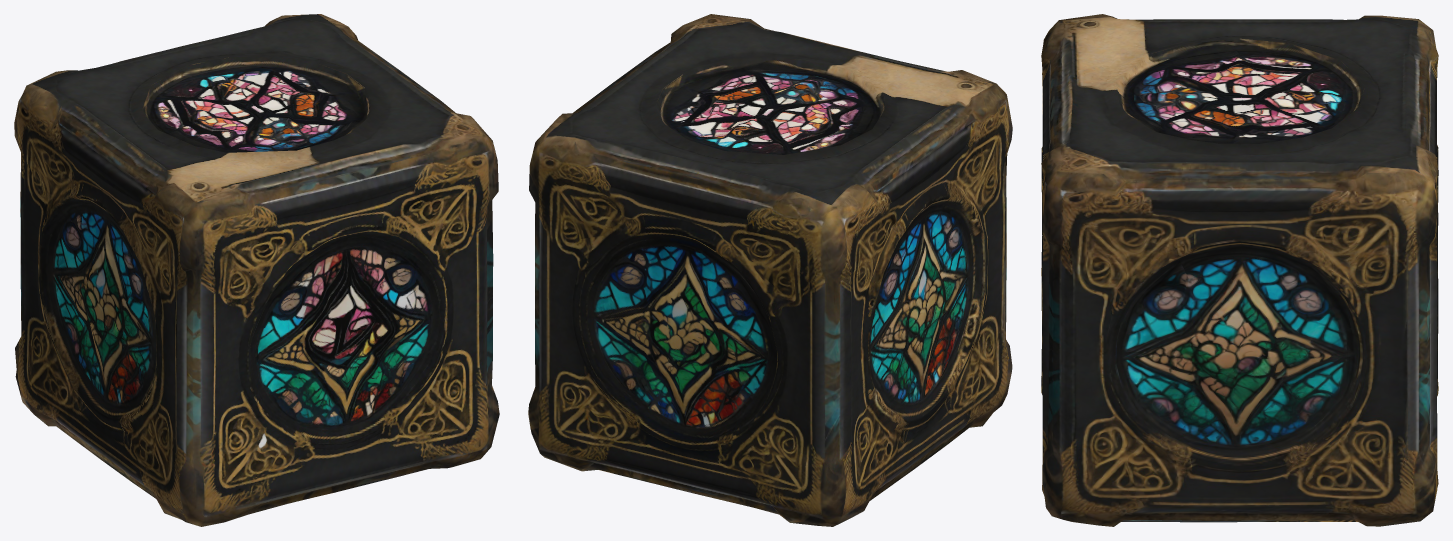
File: testCubeGildedVoid.glb
The picture shows the model from 3 angles, left to right: view 1: azimuth 30°, elevation 25°; view 2: azimuth 150°, elevation 25°; view 3: azimuth 270°, elevation 25°; orthographic projection. The views are drawn at different scales.
Parts seen in each view (by area): view 1: Mesh_0; view 2: Mesh_0; view 3: Mesh_0.
Boxes of the visible parts, bbox=[...] form: Mesh_0: bbox=[14, 14, 499, 526]; Mesh_0: bbox=[528, 14, 1012, 526]; Mesh_0: bbox=[1041, 14, 1438, 526].
Size of the model in its own units: 0.9997 by 1 by 0.9989.
Materials: 1 (1 with a texture image).
